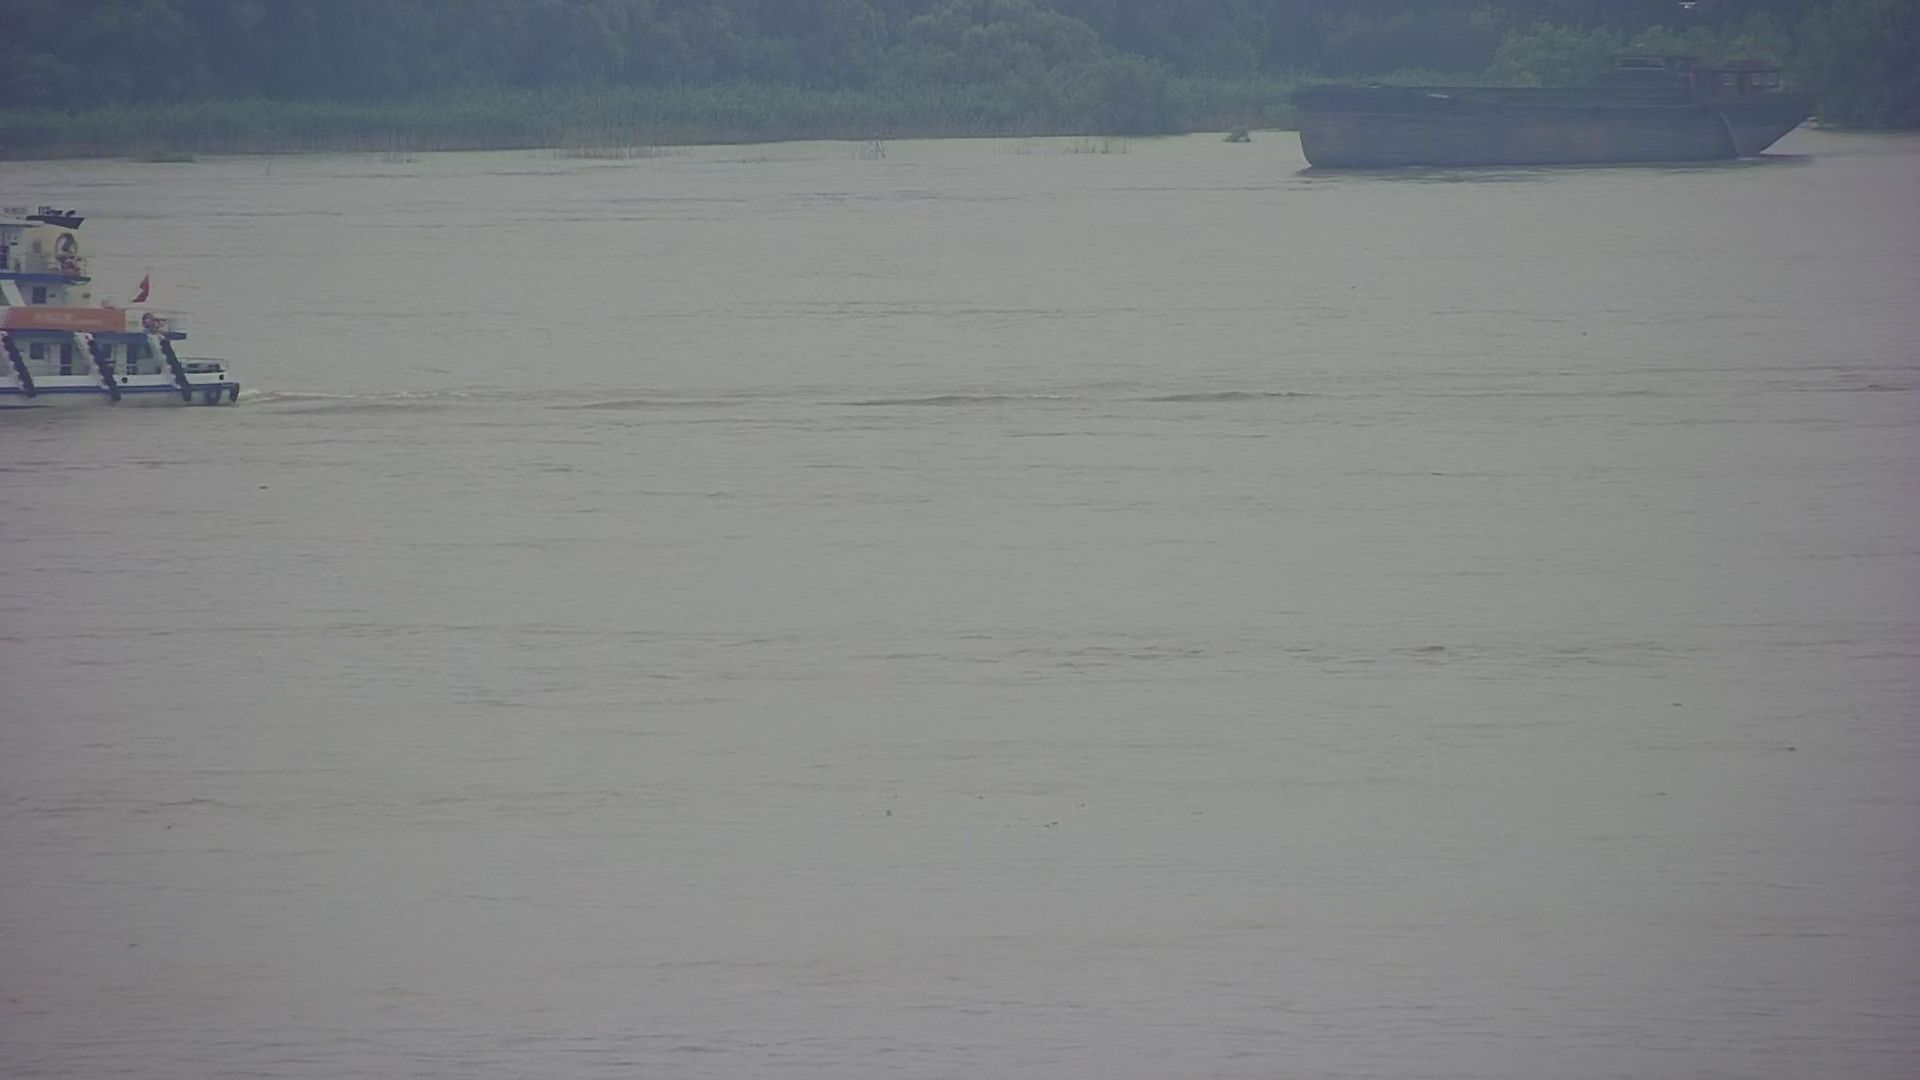ship: (1276, 34, 1836, 187), (1, 191, 255, 431)
